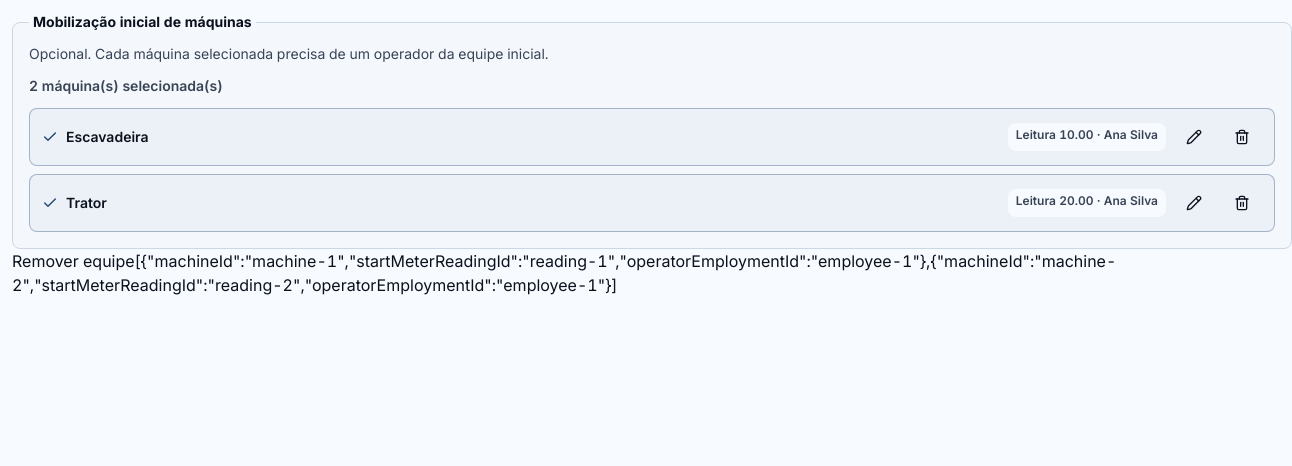
it: Project wizard polish › blocks confirmation when a duplicated operator reaches the machine draft
Step 1. Click the button named "Editar máquina Trator" → (1194, 203), box top-left (1174, 183), bottom-right (1214, 223)
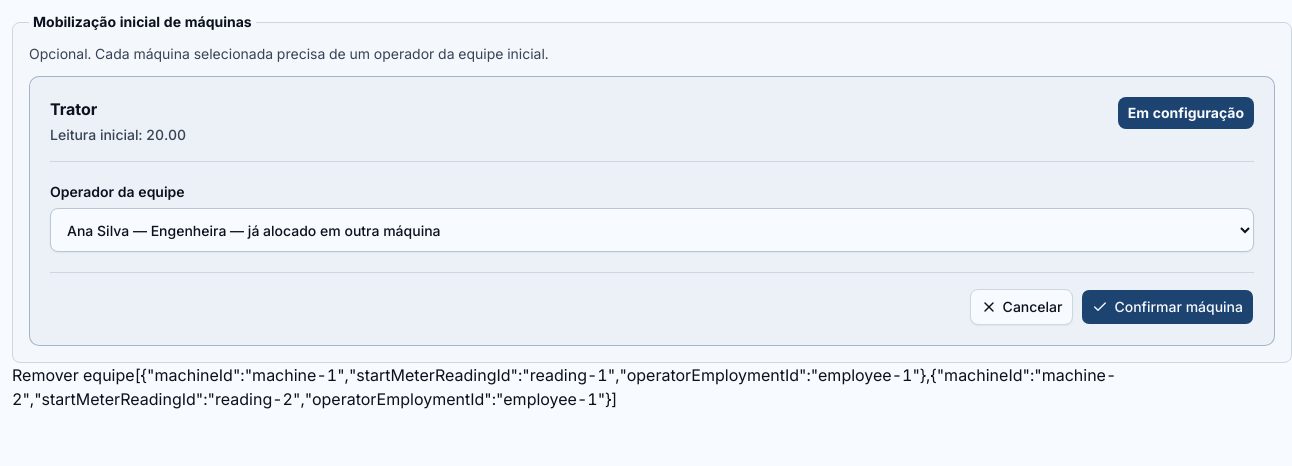
Step 2. Click the button "Confirmar máquina" → (1168, 307), box top-left (1082, 289), bottom-right (1254, 325)
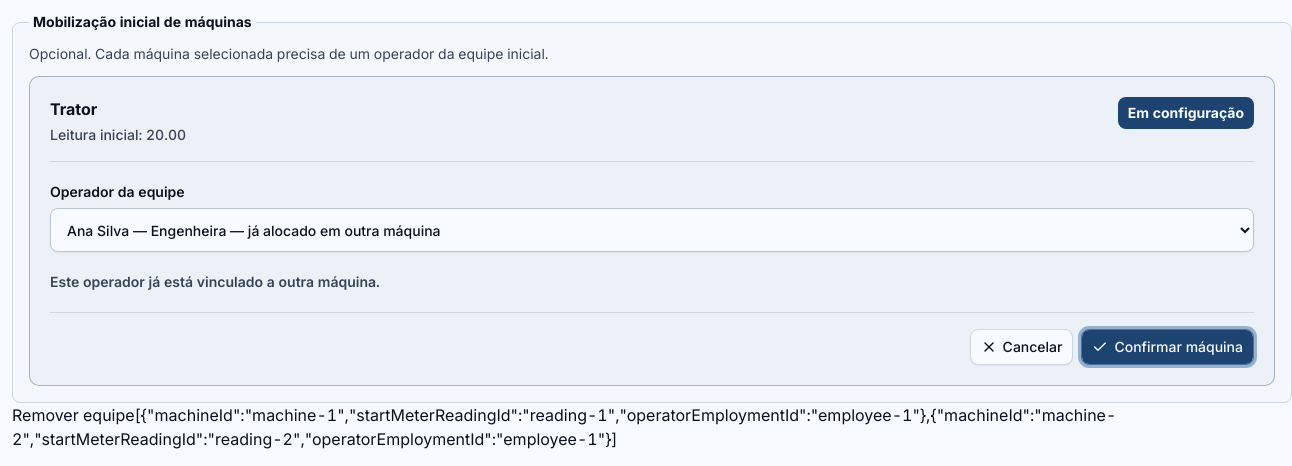
Check: the text "Este operador já está vinculado a outra máquina." is shown, box top-left (50, 273), bottom-right (380, 290)
